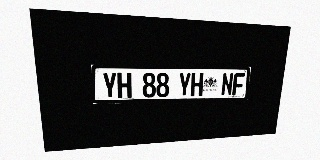8: (142, 73, 156, 98), (156, 73, 169, 97)
F: (232, 73, 245, 95)
H: (117, 72, 132, 98), (190, 73, 204, 96)
N: (221, 73, 234, 96)
Y: (102, 72, 117, 99), (178, 73, 191, 97)
